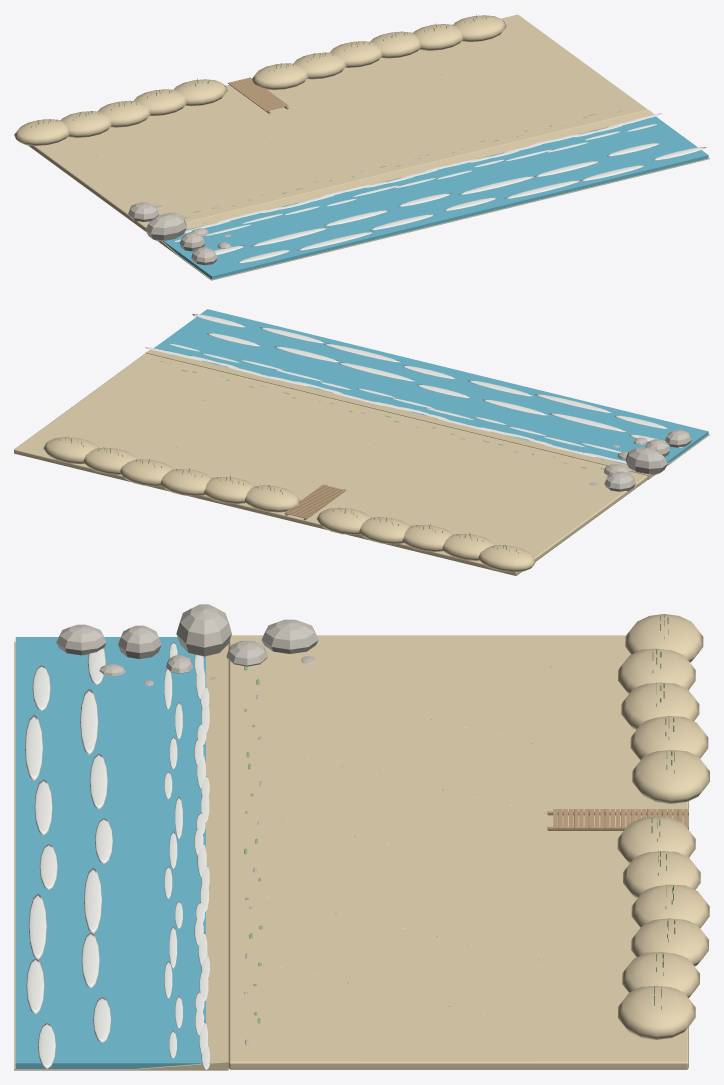
Rendered from beach-surf-and-paddle-kit-surf-cove-base-c5f15a02.glb.
3 renders of one model, top to bottom at view 1: azimuth 30°, elevation 25°; view 2: azimuth 150°, elevation 25°; view 3: azimuth 270°, elevation 25°, orthographic. The views are drawn at different scales.
Parts seen in each view (by area): view 1: surf-cove-base-sand, surf-cove-base-water, surf-cove-base-foam, surf-cove-base-drift, surf-cove-base-timber; view 2: surf-cove-base-sand, surf-cove-base-water, surf-cove-base-foam, surf-cove-base-drift, surf-cove-base-timber; view 3: surf-cove-base-sand, surf-cove-base-water, surf-cove-base-foam, surf-cove-base-drift, surf-cove-base-timber, surf-cove-base-grass.
Part boxes in pixels (bbox=[...]): surf-cove-base-sand: bbox=[14, 14, 709, 280]; surf-cove-base-water: bbox=[163, 116, 708, 279]; surf-cove-base-foam: bbox=[173, 61, 706, 263]; surf-cove-base-drift: bbox=[128, 110, 623, 265]; surf-cove-base-timber: bbox=[227, 77, 288, 113]; surf-cove-base-sand: bbox=[14, 347, 709, 575]; surf-cove-base-water: bbox=[154, 309, 708, 464]; surf-cove-base-foam: bbox=[109, 314, 682, 498]; surf-cove-base-drift: bbox=[160, 361, 691, 491]; surf-cove-base-timber: bbox=[284, 484, 345, 520]; surf-cove-base-sand: bbox=[14, 614, 709, 1070]; surf-cove-base-water: bbox=[15, 637, 205, 1068]; surf-cove-base-foam: bbox=[25, 642, 517, 1069]; surf-cove-base-drift: bbox=[56, 604, 318, 1045]; surf-cove-base-timber: bbox=[547, 809, 688, 830]; surf-cove-base-grass: bbox=[244, 614, 675, 1023].
Size of the model in its own units: 34.18 by 1.54 by 22.69.
